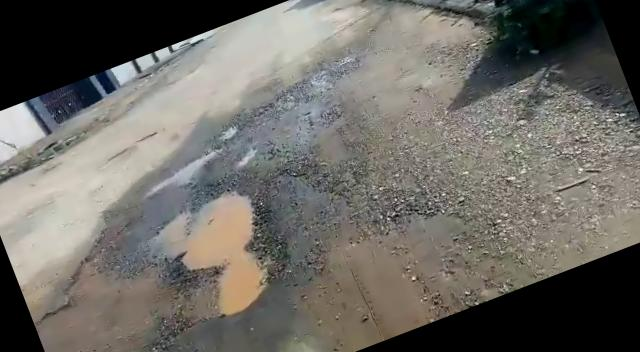pothole: (119, 168, 305, 339), (219, 123, 240, 141)
